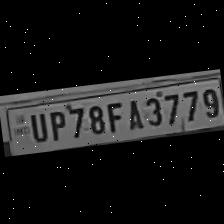3: (140, 91, 164, 127)
7: (63, 102, 87, 139), (176, 86, 200, 122), (160, 89, 182, 126)
8: (82, 99, 106, 135)
9: (196, 84, 220, 119)
A: (120, 94, 144, 131)
F: (102, 96, 125, 134)
P: (44, 105, 68, 141)
U: (24, 108, 48, 142)
